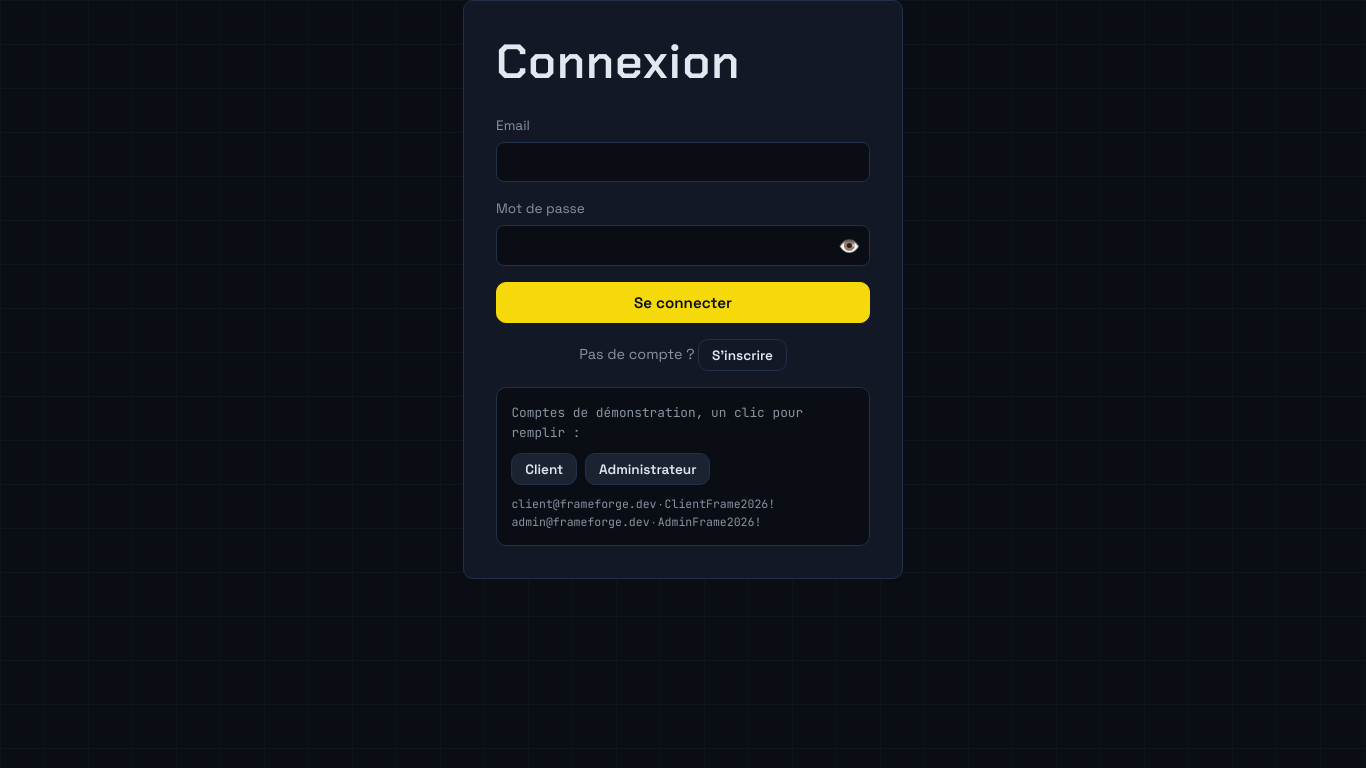
it: Login › affiche une erreur persistante et la retire quand le champ est corrigé
Type "client@example.test" into the field labelled "Email". click: (683, 162)
box: [496,142,870,182]
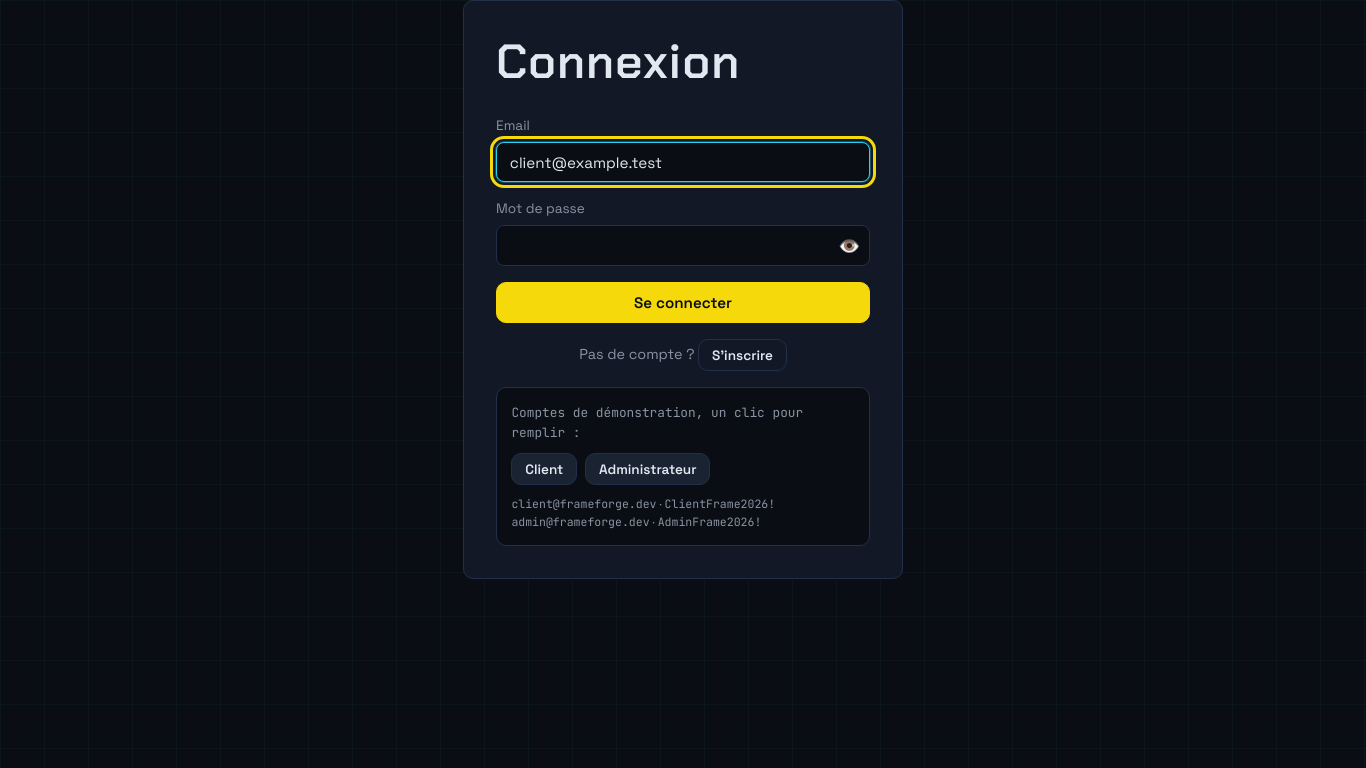
Type "wrong-password" into the password field labelled "Mot de passe". click: (683, 246)
box: [496,226,870,266]
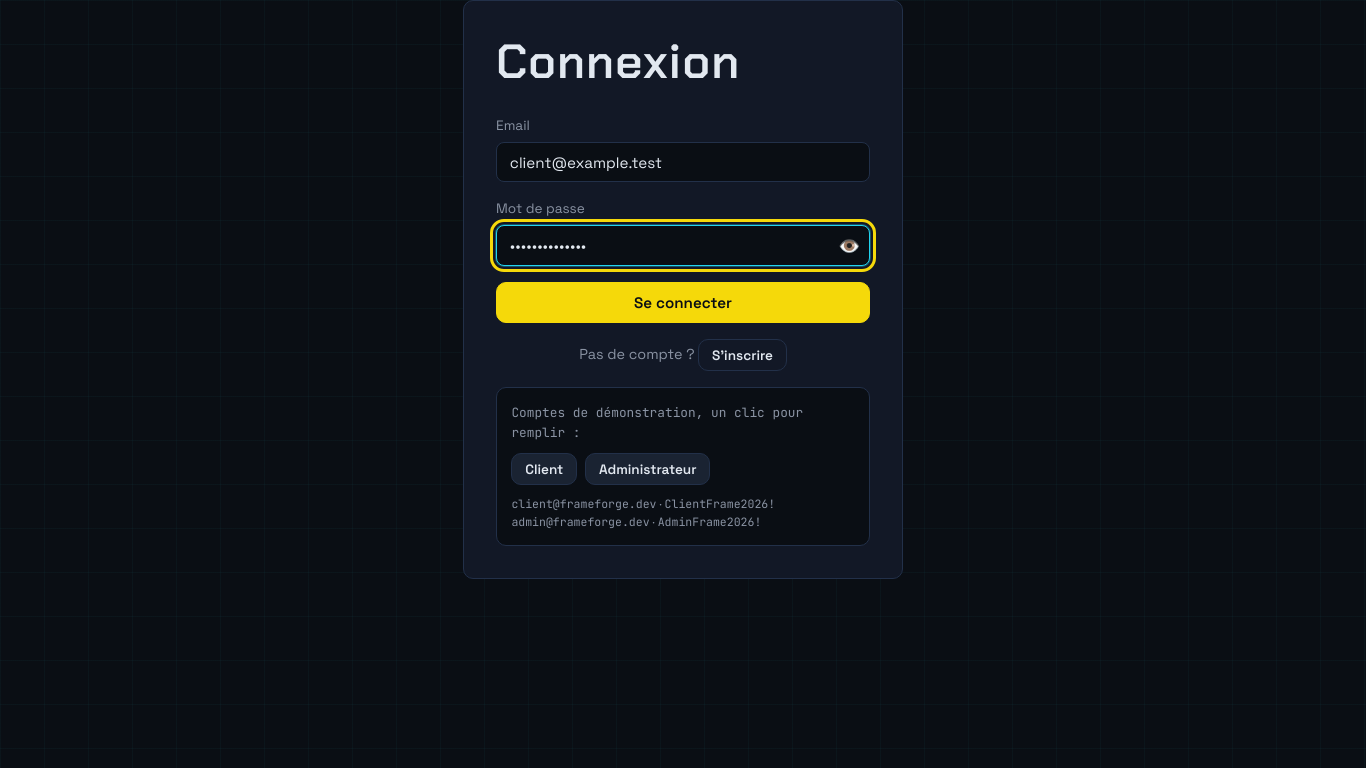
Click the button "Se connecter". click: (683, 303)
box: [496,282,870,324]
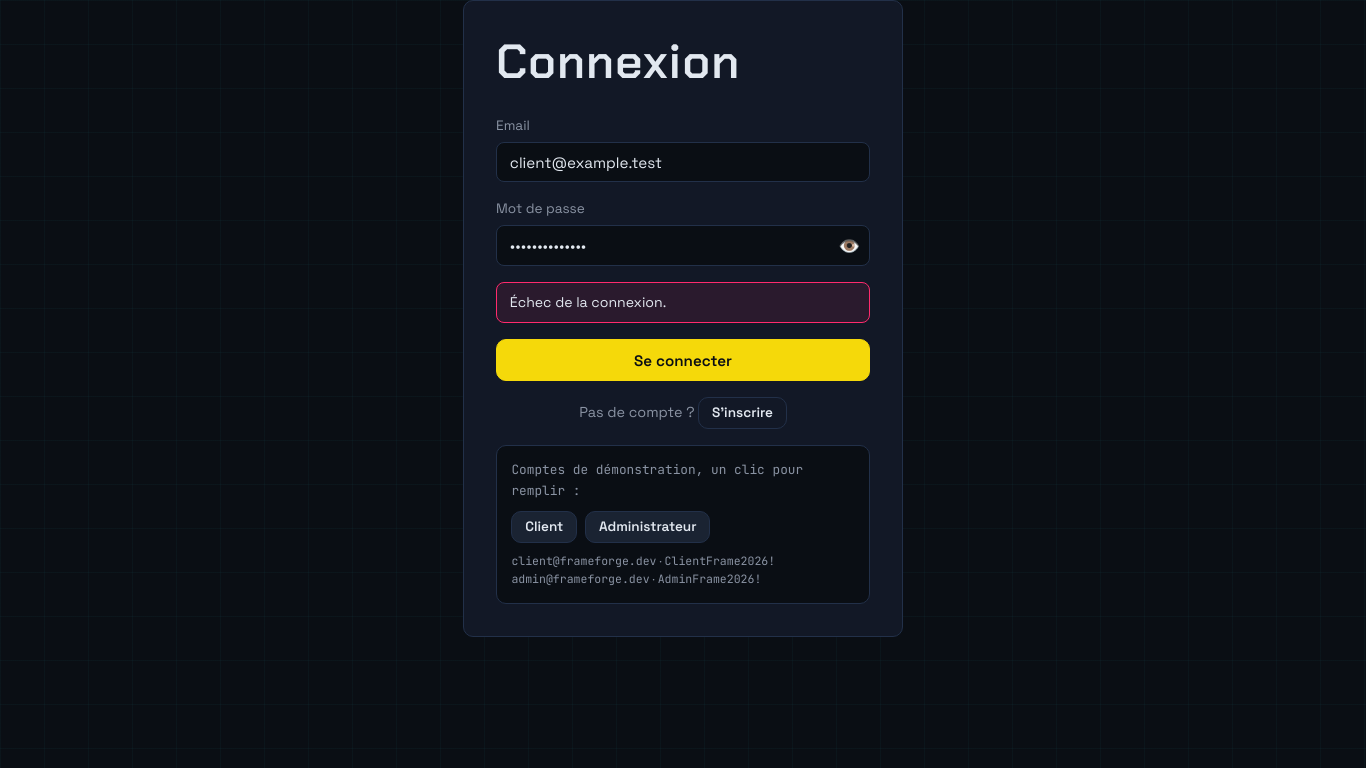
Check: the message reads "Échec de la connexion.", box [510,293,666,311]
Type "x" into the field labelled "Email". click: (683, 162)
box: [496,142,870,182]
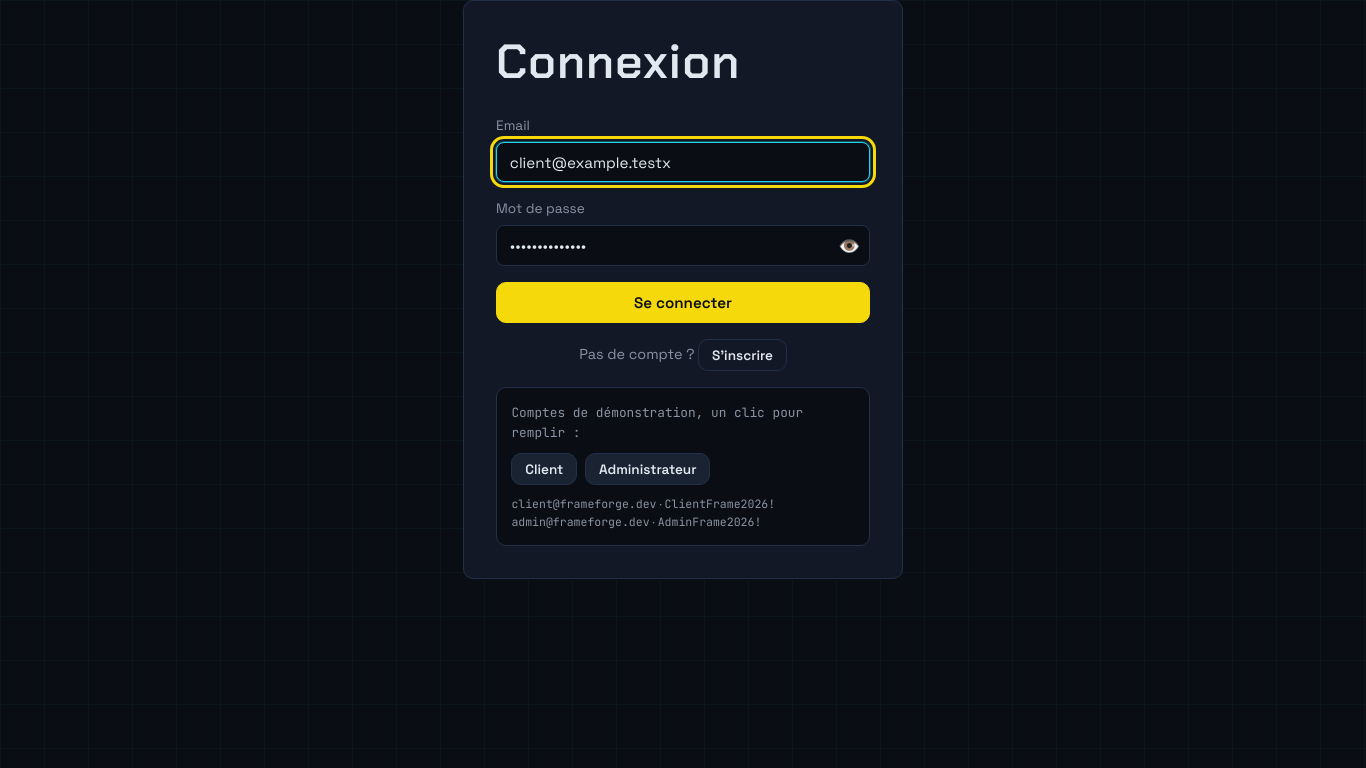
Check: the message "Échec de la connexion." is gone
